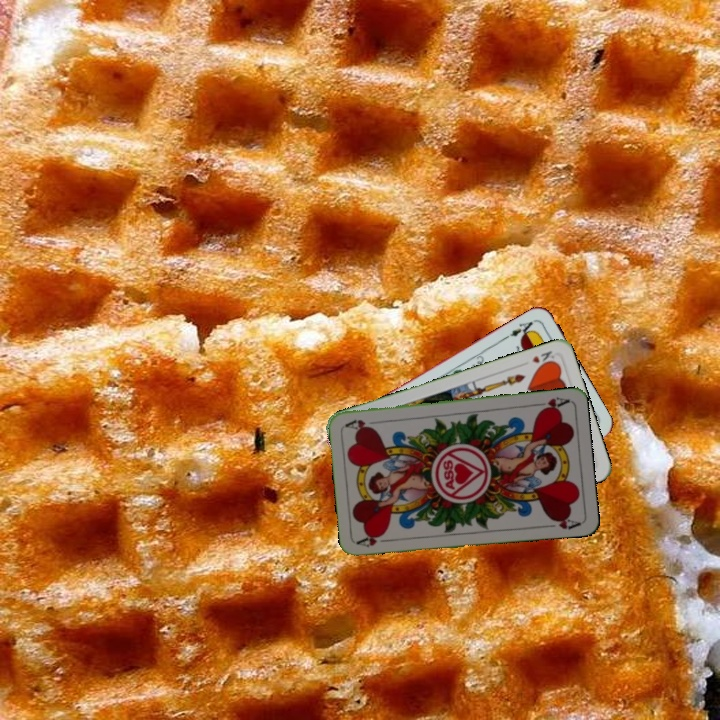EA: (501, 316, 538, 342)
HA: (530, 393, 571, 414), (354, 531, 395, 549)
HK: (528, 347, 559, 369)
